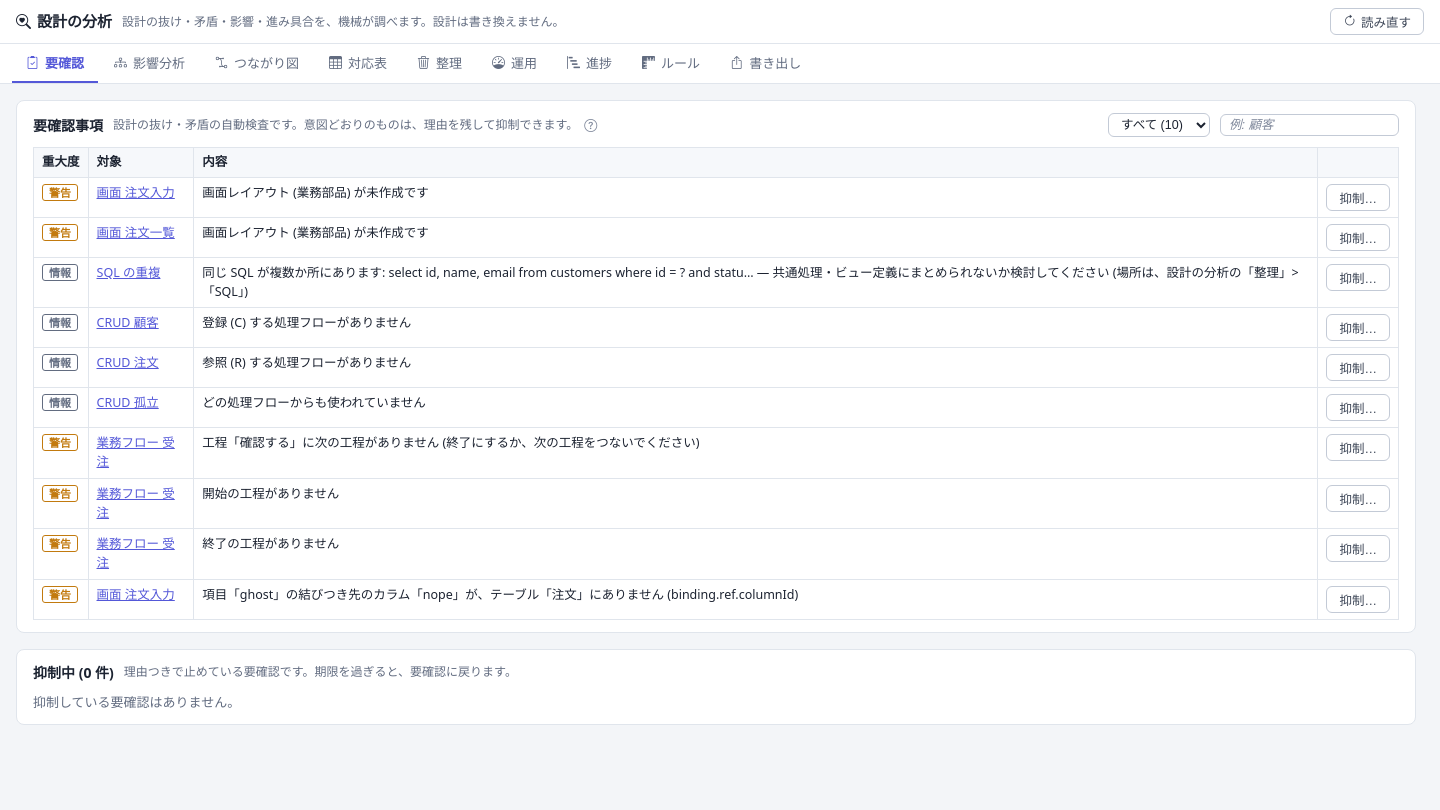
Test: 整理: SQL › SQL の一覧と、同じ SQL の重複を出す
Click the tab "整理" at x=440, y=64, box [403,44,476,83]
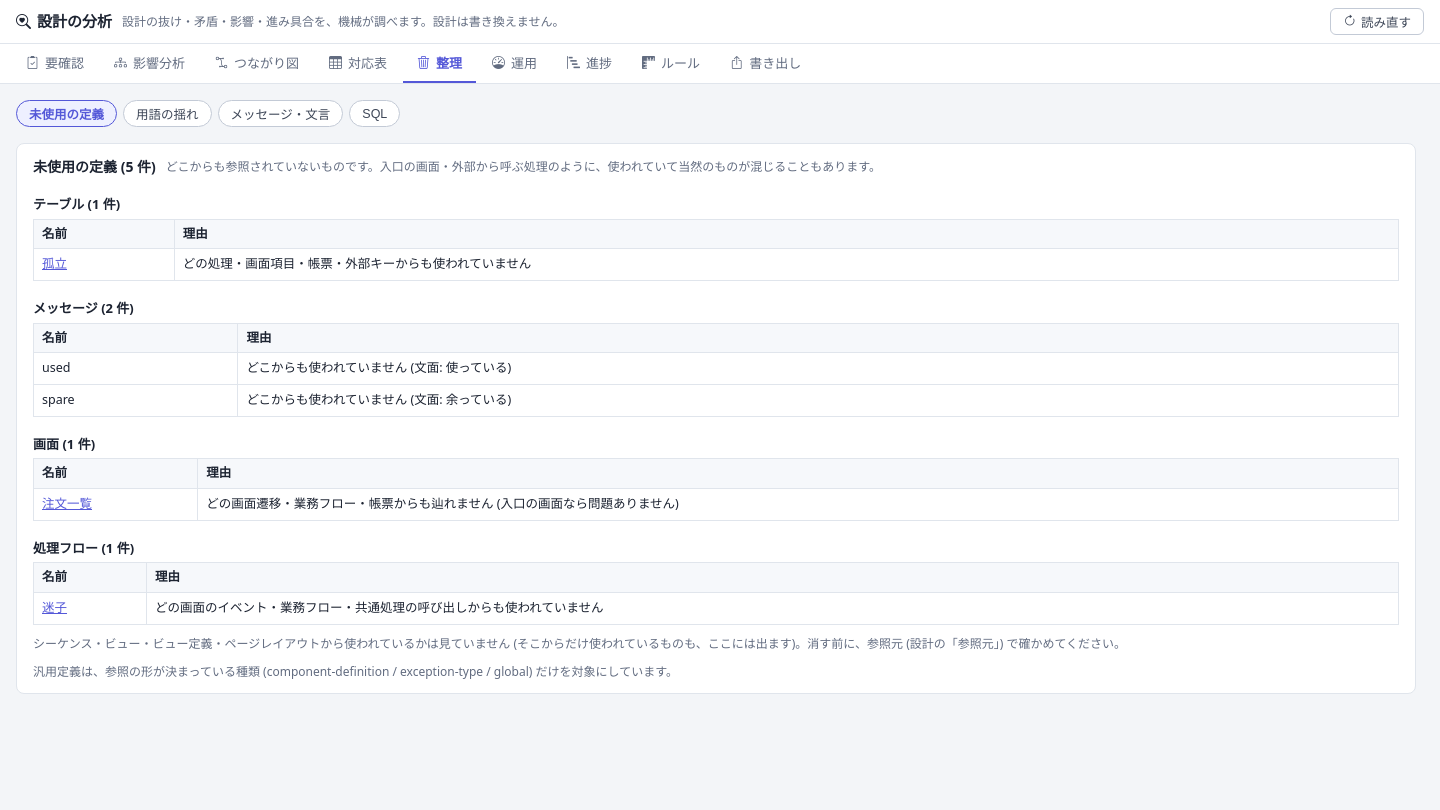
Click the button "SQL" at x=375, y=114, box [349,100,400,127]
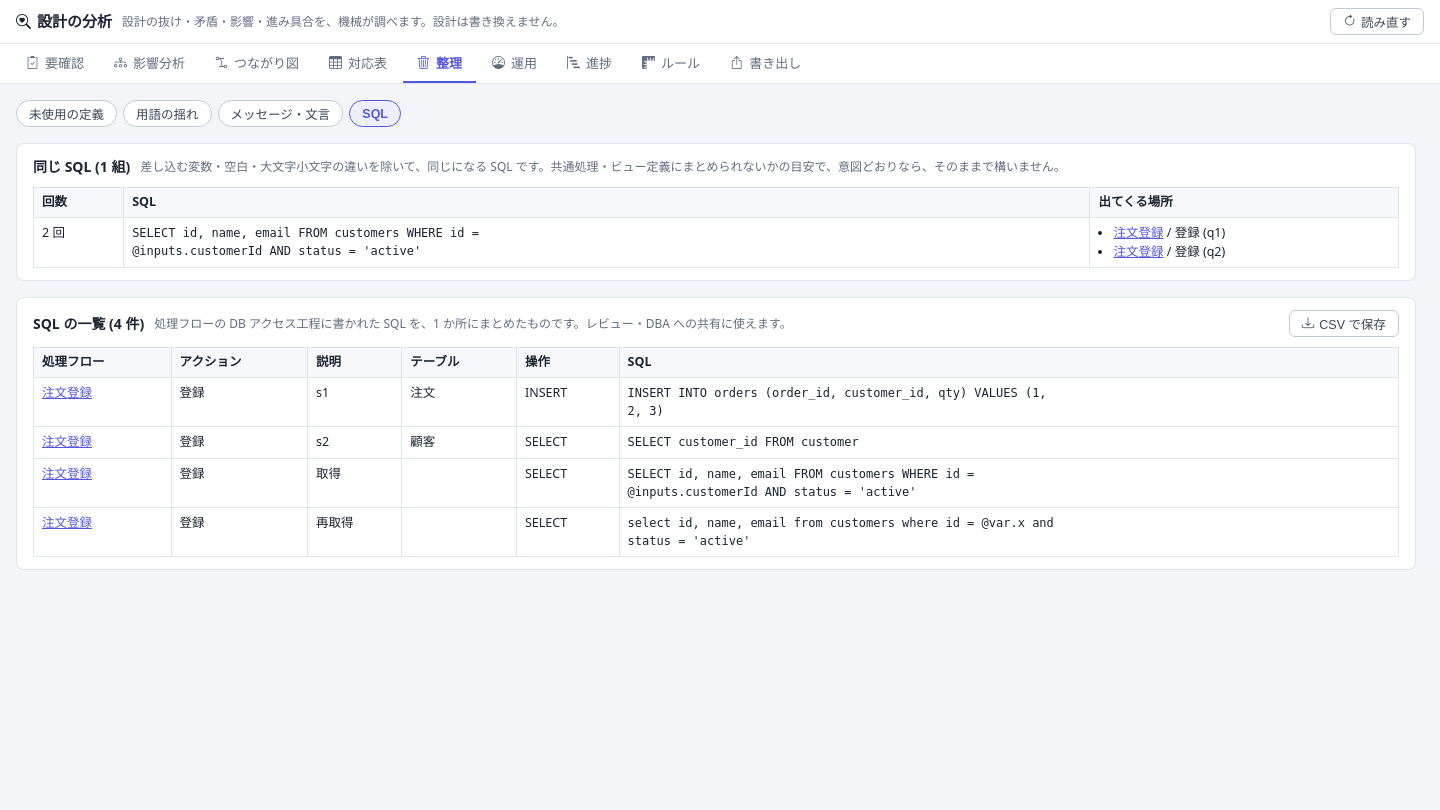
Result: the element with test id "an-sql-dups" shows "2 回" at [42,224,65,241]
Result: the element with test id "an-sql-list" shows "customers" at [628,467,982,499]
Result: the button "CSV で保存" is enabled at [1289,310,1399,337]
